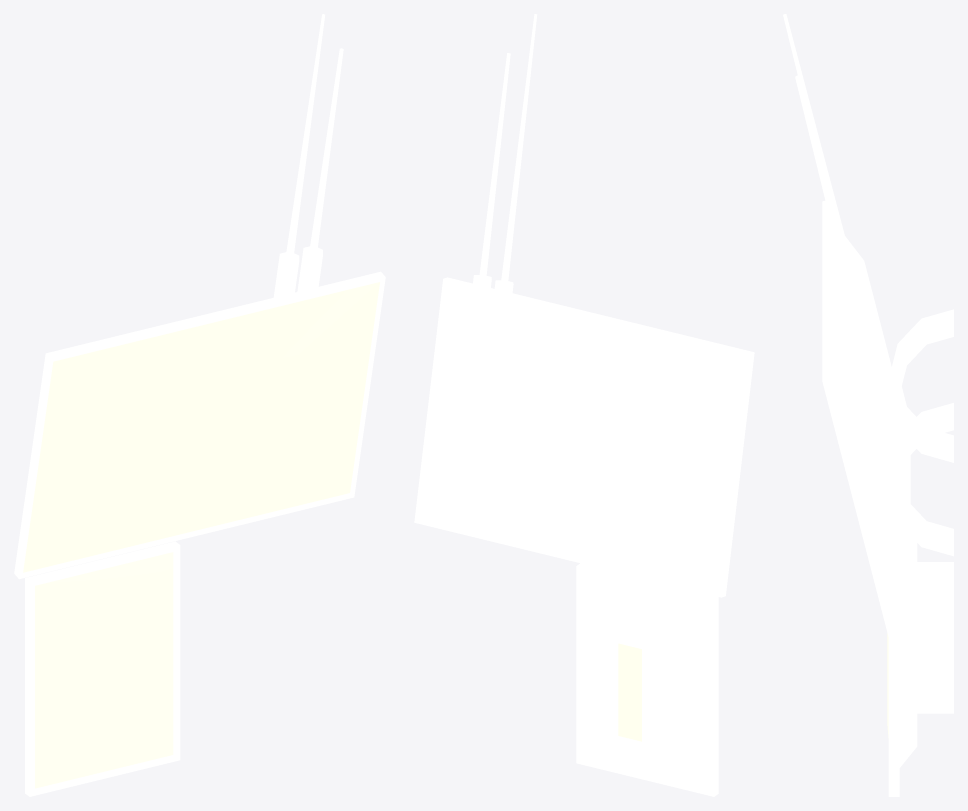
File: Office_Assets_Monitoring_Screens_Var_2.glb
3 renders of one model, left to right at view 1: azimuth 30°, elevation 25°; view 2: azimuth 150°, elevation 25°; view 3: azimuth 270°, elevation 25°, orthographic. The views are drawn at different scales.
Visible parts, largest first — view 1: Monitoring_Screens_2; view 2: Monitoring_Screens_2; view 3: Monitoring_Screens_2.
Part boxes in pixels (<box>): Monitoring_Screens_2: <box>14,14,385,796</box>; Monitoring_Screens_2: <box>414,14,754,796</box>; Monitoring_Screens_2: <box>783,14,953,796</box>.
Bounding box in the file's own units: 0.972 × 2.1 × 0.3887.
